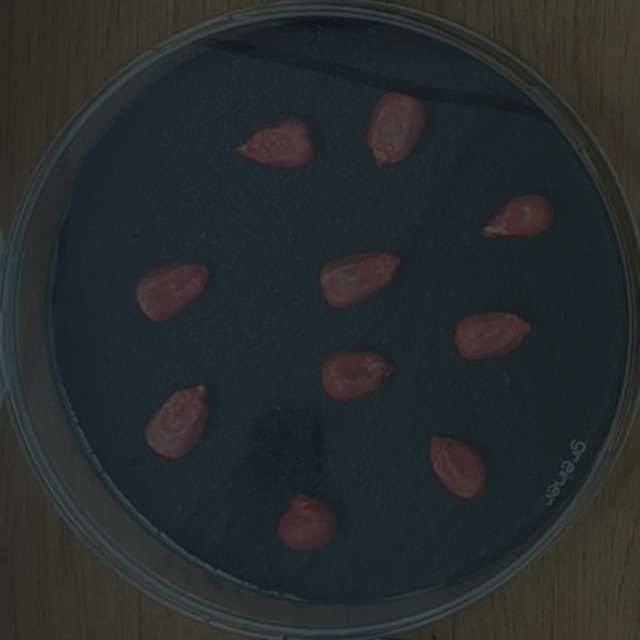Zea mays: (312, 241, 409, 317), (136, 375, 215, 466), (359, 84, 434, 175), (129, 254, 216, 327), (448, 303, 542, 369), (231, 111, 321, 176), (423, 427, 495, 507), (314, 342, 401, 408), (471, 186, 561, 247), (271, 484, 345, 557)
